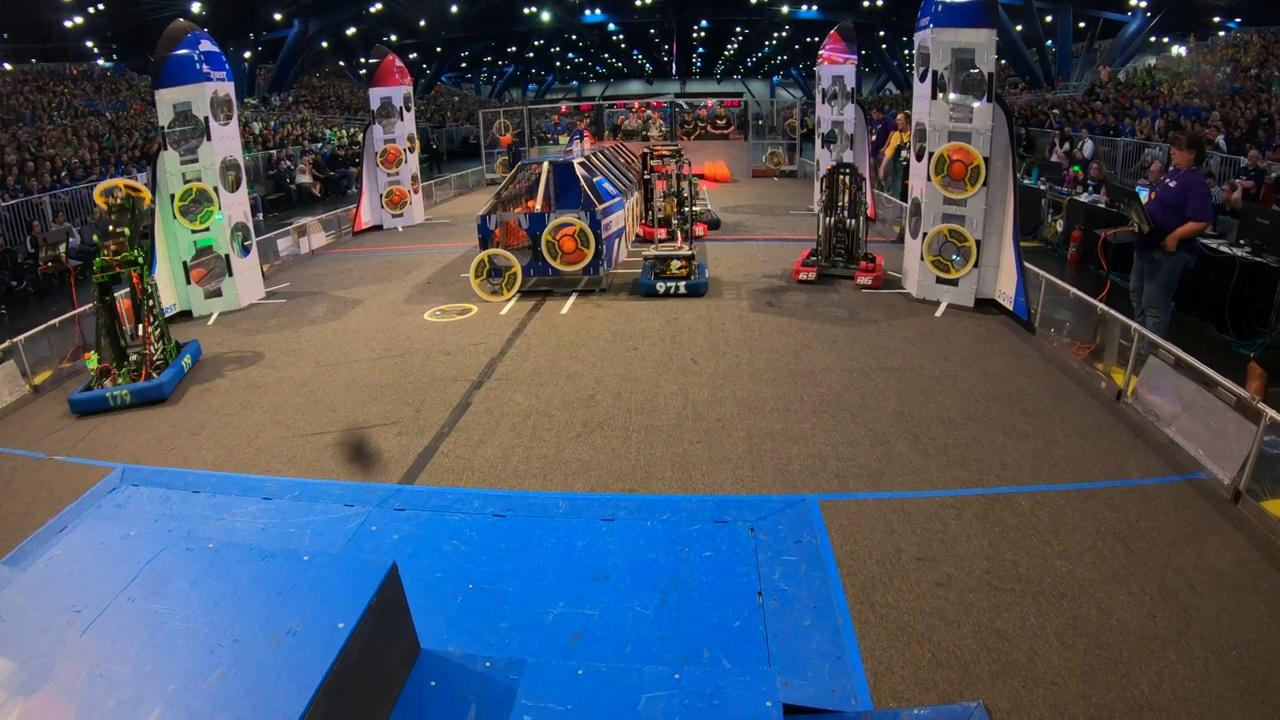robot: (788, 160, 890, 289), (634, 170, 713, 300), (634, 143, 710, 243)
